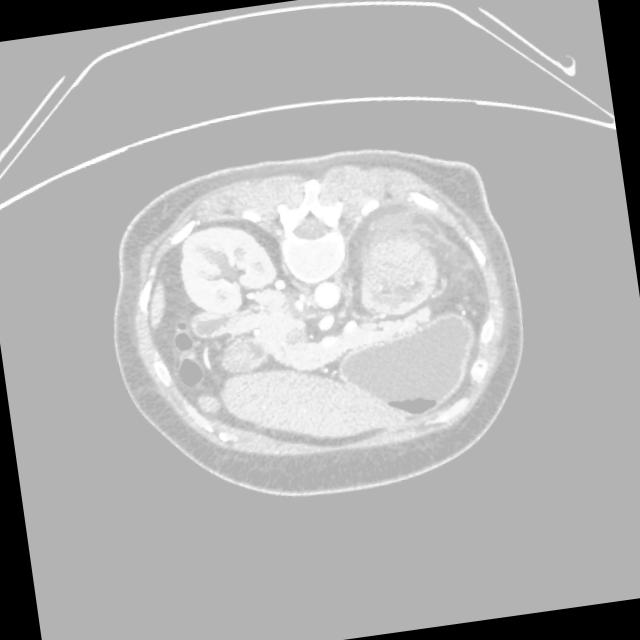TUMOR: (88, 227, 545, 493)
